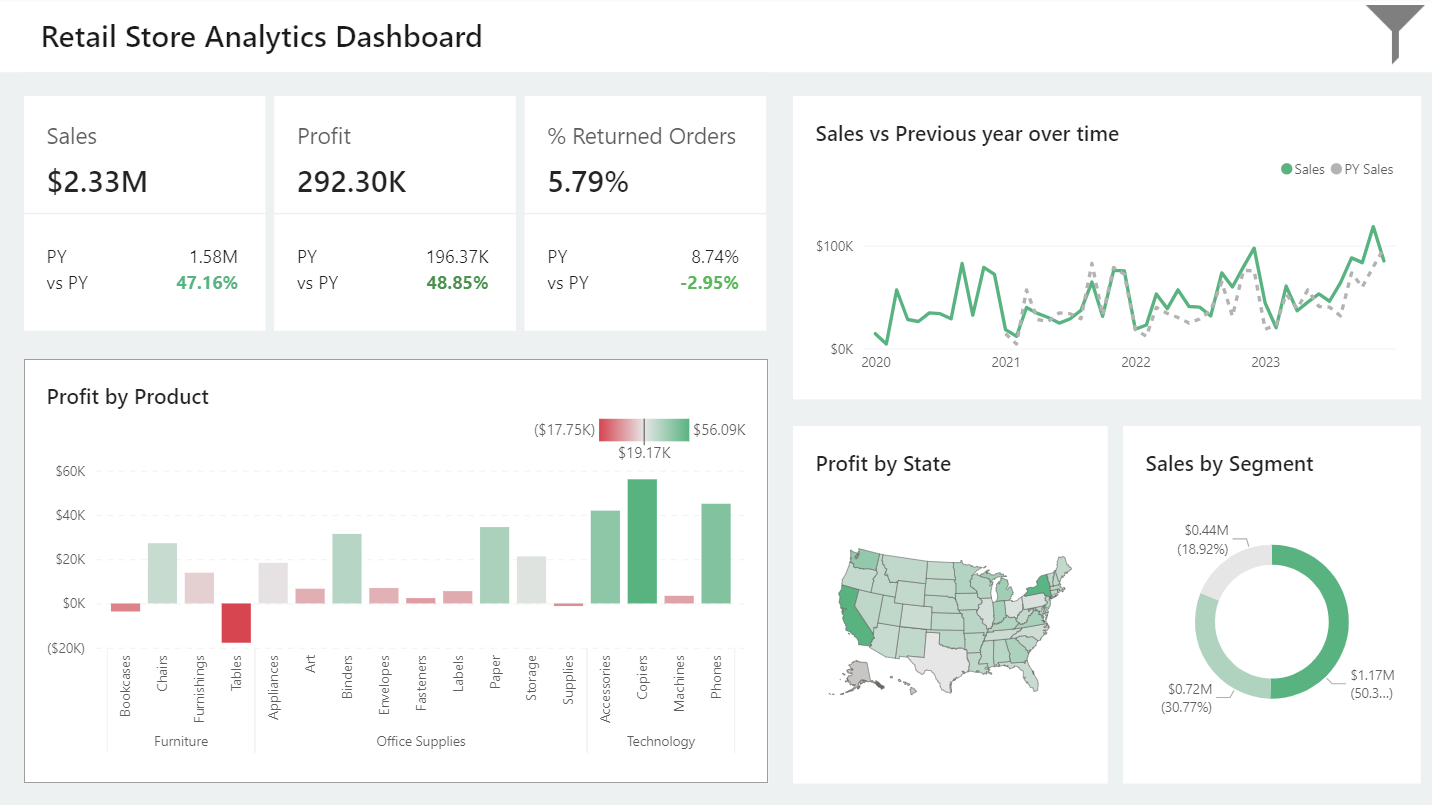

This screenshot's page, from the dashboard's own definition file:
{"tool":"powerbi","page":{"name":"Page 1","canvas":[1280,720],"ordinal":0},"visuals":[{"type":"shape","box":[0,0,1280,66.7],"z":0},{"type":"cardVisual","fields":{"Data":["Measures (2).Sales","Measures (2).Profit","Measures (2).% of Returned Orders"]},"box":[21,88,660,213],"z":1000},{"type":"image","title":"Filter","box":[1195.6,0,84.4,66.7],"z":2000},{"type":"lineChart","title":"Sales vs Previous year over time","fields":{"Category":["Date Table.Start date of month"],"Y":["Measures (2).Sales","Measures (2).PY Sales"]},"box":[703,88,557,269],"z":3000},{"type":"clusteredColumnChart","title":"Profit by Product","fields":{"Category":["Orders.Category","Orders.Sub-Category"],"Y":["Measures (2).Profit"]},"box":[21,321,660,376],"z":4000},{"type":"shapeMap","title":"Profit by State","fields":{"Value":["Measures (2).Profit"],"Category":["Orders.State/Province"]},"box":[703,380,279,317],"z":5000},{"type":"donutChart","title":"Sales by Segment","fields":{"Category":["Orders.Segment"],"Y":["Measures (2).Sales"]},"box":[996,380,264,317],"z":6000}]}

Visuals, with their boxes in screenshot pixels (x1, y1, x2, y2), scaled from the page's 1280x720 canvas onto the 1432x805 screenshot:
shape: <region>0, 0, 1431, 75</region>
cardVisual - Measures (2).Sales x Measures (2).Profit: <region>23, 98, 762, 337</region>
"Filter" image: <region>1338, 0, 1431, 75</region>
"Sales vs Previous year over time" lineChart: <region>786, 98, 1410, 399</region>
"Profit by Product" clusteredColumnChart: <region>23, 359, 762, 779</region>
"Profit by State" shapeMap: <region>786, 425, 1099, 779</region>
"Sales by Segment" donutChart: <region>1114, 425, 1410, 779</region>
